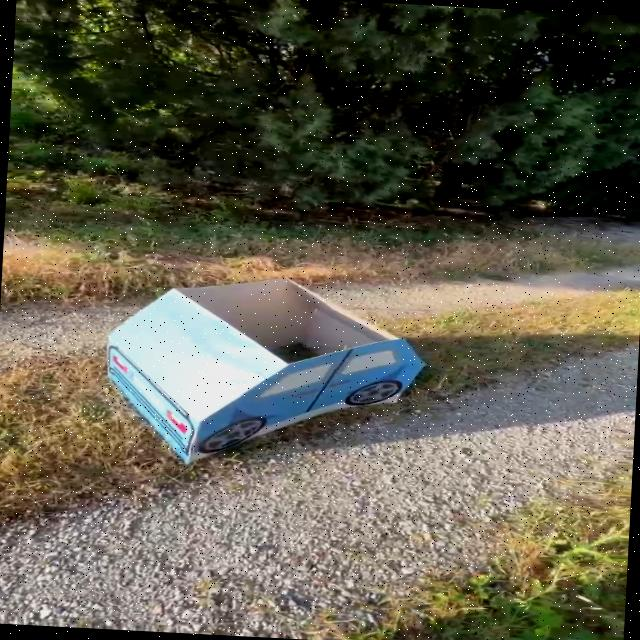blue_car: (41, 248, 444, 500)
